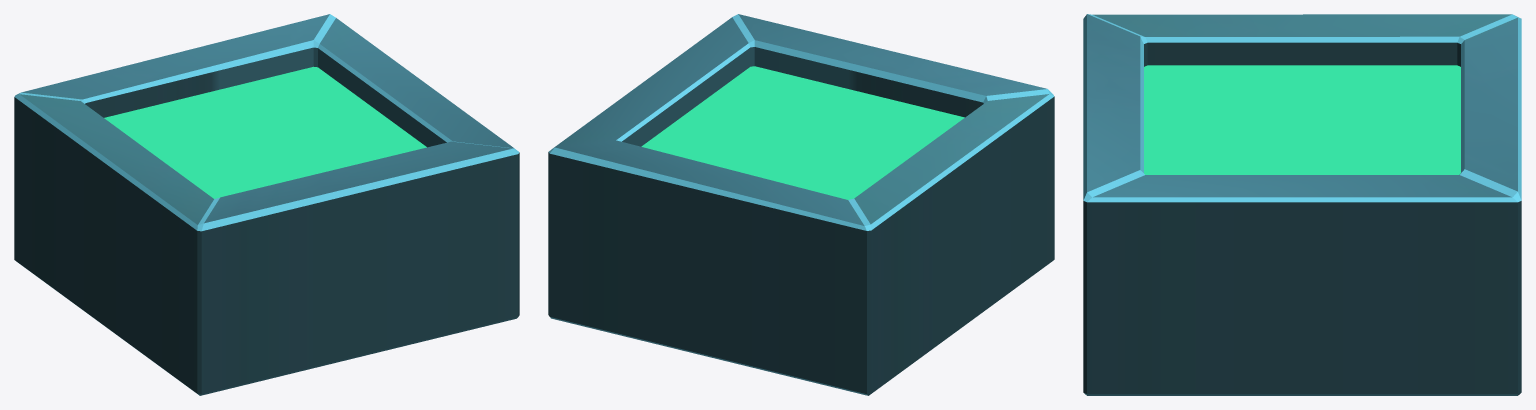
The model's file is Start.FBX.
3 views of the same model, side by side, from view 1: azimuth 30°, elevation 25°; view 2: azimuth 150°, elevation 25°; view 3: azimuth 270°, elevation 25° (orthographic). The views are drawn at different scales.
Parts seen in each view (by area): view 1: Start, Surface; view 2: Start, Surface; view 3: Start, Surface.
Part boxes in pixels (x1=…): Start: x1=14, y1=14, x2=519, y2=395; Surface: x1=104, y1=66, x2=426, y2=198; Start: x1=548, y1=14, x2=1054, y2=395; Surface: x1=641, y1=66, x2=964, y2=199; Start: x1=1083, y1=14, x2=1521, y2=395; Surface: x1=1144, y1=65, x2=1460, y2=174.
Bounding box in the file's own units: 78.74 × 40.09 × 78.74.
Materials: 2 (1 with a texture image).
